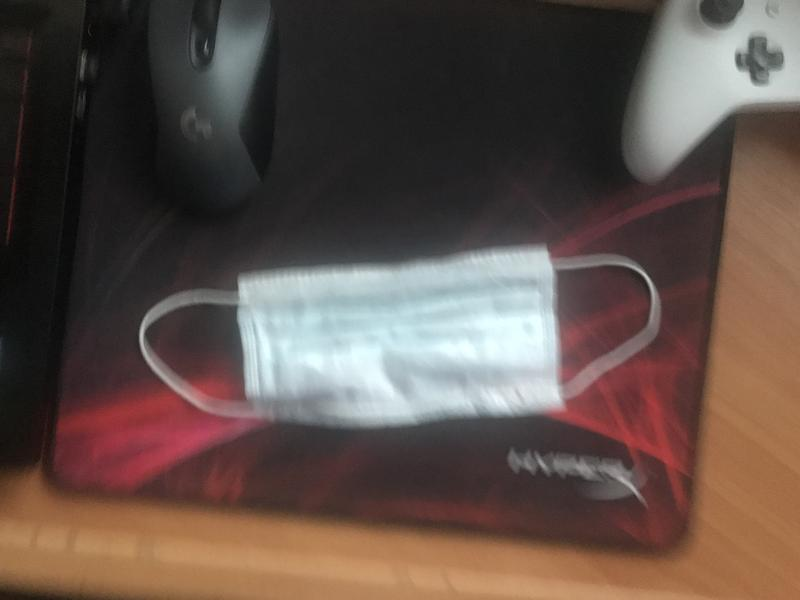medical_mask: (138, 250, 661, 427)
